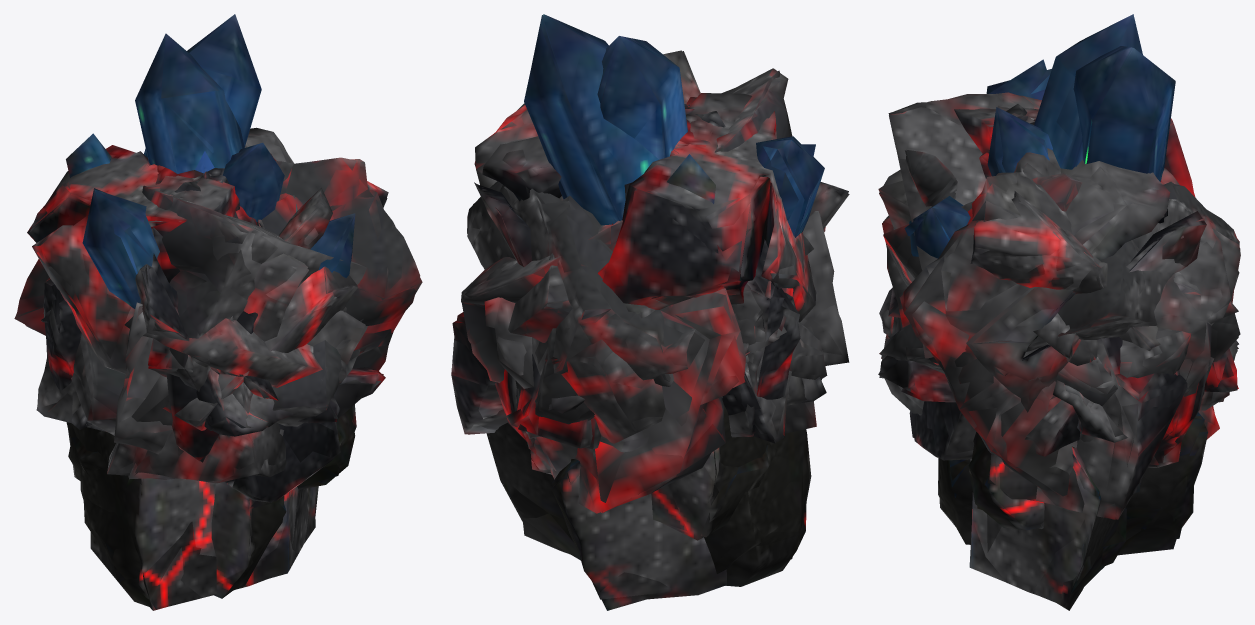
Rendered from coals.glb.
3 renders of one model, left to right at view 1: azimuth 30°, elevation 25°; view 2: azimuth 150°, elevation 25°; view 3: azimuth 270°, elevation 25°, orthographic. The views are drawn at different scales.
Parts seen in each view (by area): view 1: cry_01_l0, rock_01_l0, cry_01_l1, rock_00_l0, rock_07_l0, cry_00_l0, cry_02_l0, rock_11_l0, rock_01_l1, cry_00_l1, rock_08_l0, rock_00_l1 (+24 smaller); view 2: rock_01_l0, cry_00_l0, cry_01_l0, rock_02_l0, cry_01_l1, rock_01_l1, rock_00_l0, rock_00_l1, rock_02_l1, cry_00_l1, rock_11_l0, rock_06_l0 (+20 smaller); view 3: cry_00_l0, rock_00_l0, rock_11_l0, cry_01_l1, rock_00_l1, rock_01_l0, rock_07_l0, cry_01_l0, cry_00_l1, rock_11_l1, rock_02_l0, rock_07_l1 (+23 smaller).
Part boxes in pixels (bbox=[...]): cry_01_l0: bbox=[80, 33, 317, 609]; rock_01_l0: bbox=[29, 148, 239, 377]; cry_01_l1: bbox=[82, 35, 318, 610]; rock_00_l0: bbox=[16, 159, 420, 370]; rock_07_l0: bbox=[142, 186, 364, 389]; cry_00_l0: bbox=[144, 14, 355, 598]; cry_02_l0: bbox=[66, 133, 355, 489]; rock_11_l0: bbox=[114, 127, 365, 454]; rock_01_l1: bbox=[27, 145, 235, 372]; cry_00_l1: bbox=[187, 14, 354, 591]; rock_08_l0: bbox=[107, 317, 286, 481]; rock_00_l1: bbox=[14, 157, 422, 353]; rock_01_l0: bbox=[451, 93, 816, 434]; cry_00_l0: bbox=[524, 14, 723, 610]; cry_01_l0: bbox=[488, 36, 824, 586]; rock_02_l0: bbox=[467, 181, 823, 380]; cry_01_l1: bbox=[486, 37, 815, 573]; rock_01_l1: bbox=[452, 97, 815, 434]; rock_00_l0: bbox=[550, 288, 745, 513]; rock_00_l1: bbox=[587, 288, 745, 512]; rock_02_l1: bbox=[467, 182, 827, 378]; cry_00_l1: bbox=[524, 15, 726, 599]; rock_11_l0: bbox=[478, 139, 849, 365]; rock_06_l0: bbox=[515, 345, 665, 471]; cry_00_l0: bbox=[909, 46, 1207, 555]; rock_00_l0: bbox=[902, 148, 1219, 492]; rock_11_l0: bbox=[923, 159, 1206, 412]; cry_01_l1: bbox=[969, 14, 1142, 606]; rock_00_l1: bbox=[899, 160, 1214, 496]; rock_01_l0: bbox=[954, 105, 1193, 519]; rock_07_l0: bbox=[889, 94, 1231, 396]; cry_01_l0: bbox=[972, 14, 1136, 610]; cry_00_l1: bbox=[904, 46, 1204, 544]; rock_11_l1: bbox=[925, 166, 1204, 400]; rock_02_l0: bbox=[881, 184, 1237, 368]; rock_07_l1: bbox=[888, 92, 1230, 461].
Bounding box in the file's own units: 0.1209 × 0.2009 × 0.1214.
Materials: 2 (2 with a texture image).
